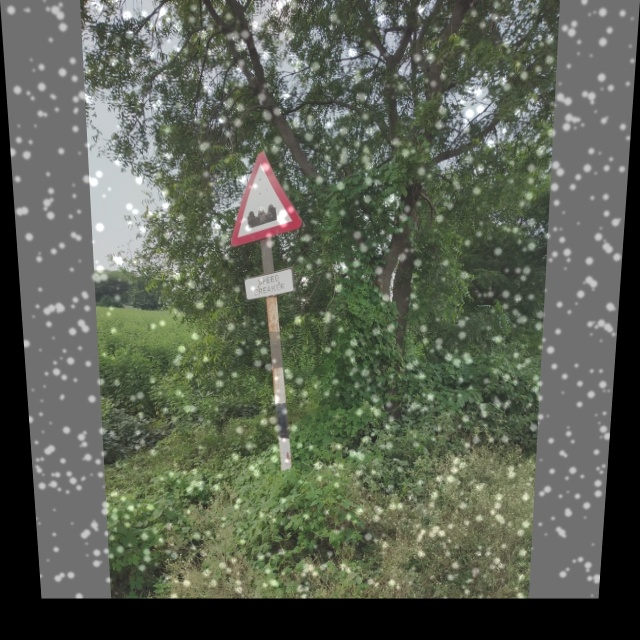Hump_or_Rough_Road: (227, 150, 305, 244)
